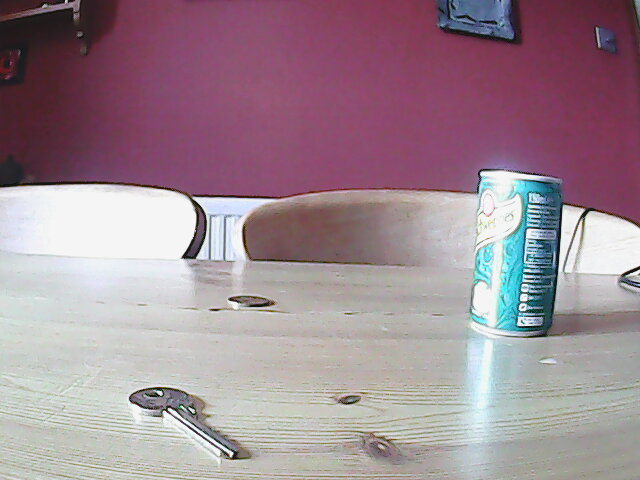Can: (467, 166, 566, 342)
Coin: (226, 294, 271, 309)
Key: (123, 384, 244, 463)
